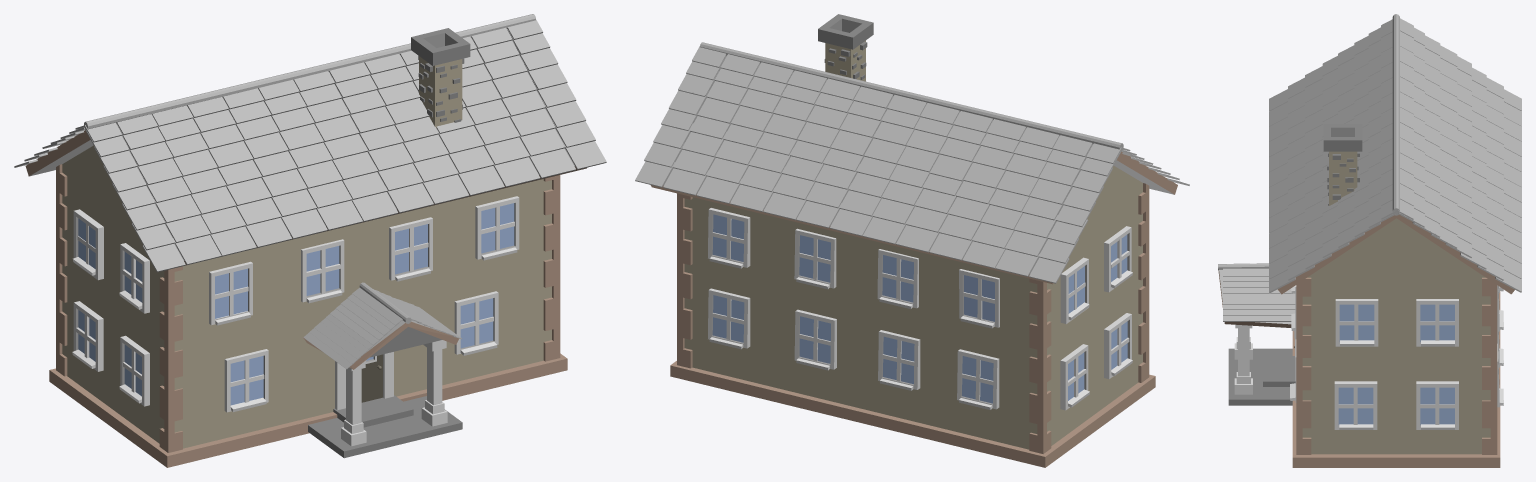
The model's file is Airbnb.fbx.
3 renders of one model, left to right at view 1: azimuth 30°, elevation 25°; view 2: azimuth 150°, elevation 25°; view 3: azimuth 270°, elevation 25°, orthographic. The views are drawn at different scales.
Parts seen in each view (by area): view 1: pCube1, HouseGroundFrame, FrontHouseTrim, pCube3, pCylinder9, LowerPorchStep, Window5 (×2), BackHouseTrim1, FrontHouseTrim1, Window3, Window4, Window (+89 smaller); view 2: pCube1, HouseGroundFrame, FrontHouseTrim1, pCylinder9, BackHouseTrim, pCube3, FrontHouseTrim, Window16, Window15, Window13, Window, Window14 (+78 smaller); view 3: pCube1, HouseGroundFrame, BackHouseTrim, BackHouseTrim1, pCube3, LowerPorchStep, Window4, Window11, Window9, Window10, pCylinder9, RightPorchPillar (+6 smaller).
Boxes of the visible parts, box(x1,y1,x2,y2) form: pCube1: box(25, 29, 586, 448); HouseGroundFrame: box(49, 353, 567, 467); FrontHouseTrim: box(159, 266, 182, 452); pCube3: box(411, 28, 470, 128); pCylinder9: box(84, 14, 535, 130); LowerPorchStep: box(308, 396, 462, 458); Window5 (×2): box(120, 335, 268, 412); BackHouseTrim1: box(543, 175, 560, 361); FrontHouseTrim1: box(56, 164, 67, 376); Window3: box(475, 196, 519, 259); Window4: box(454, 291, 498, 354); Window: box(209, 261, 252, 325); pCube1: box(650, 68, 1177, 449); HouseGroundFrame: box(670, 361, 1155, 467); FrontHouseTrim1: box(1029, 278, 1051, 453); pCylinder9: box(699, 42, 1123, 151); BackHouseTrim: box(677, 193, 692, 368); pCube3: box(818, 14, 873, 81); FrontHouseTrim: box(1138, 183, 1149, 382); Window16: box(957, 349, 999, 409); Window15: box(878, 330, 920, 389); Window13: box(708, 288, 750, 348); Window: box(708, 208, 750, 267); Window14: box(794, 309, 836, 369); pCube1: box(1278, 214, 1514, 454); HouseGroundFrame: box(1292, 291, 1500, 467); BackHouseTrim: box(1482, 277, 1497, 454); BackHouseTrim1: box(1296, 277, 1311, 454); pCube3: box(1323, 124, 1362, 205); LowerPorchStep: box(1228, 348, 1292, 405); Window4: box(1334, 381, 1377, 429); Window11: box(1335, 299, 1378, 346); Window9: box(1416, 381, 1458, 429); Window10: box(1416, 299, 1458, 346); pCylinder9: box(1392, 14, 1399, 215); RightPorchPillar: box(1234, 324, 1252, 394).
Size of the model in its own units: 69.47 by 49.16 by 46.12.
